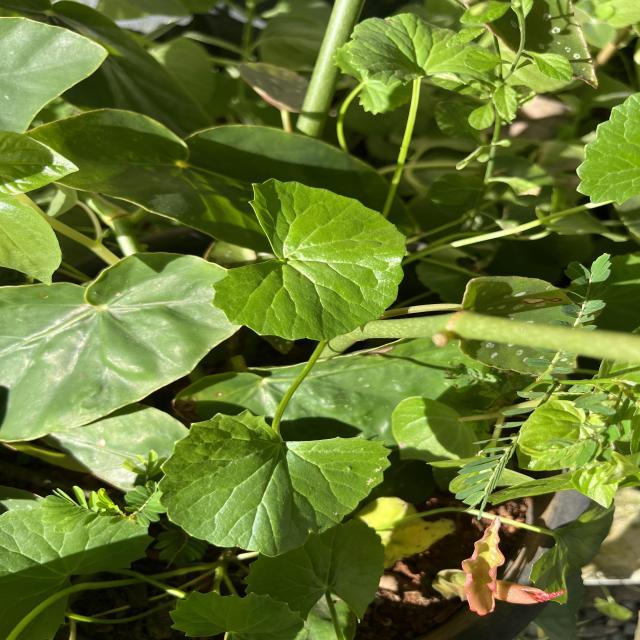Centella asiatica: (154, 407, 396, 559), (208, 176, 408, 344)
